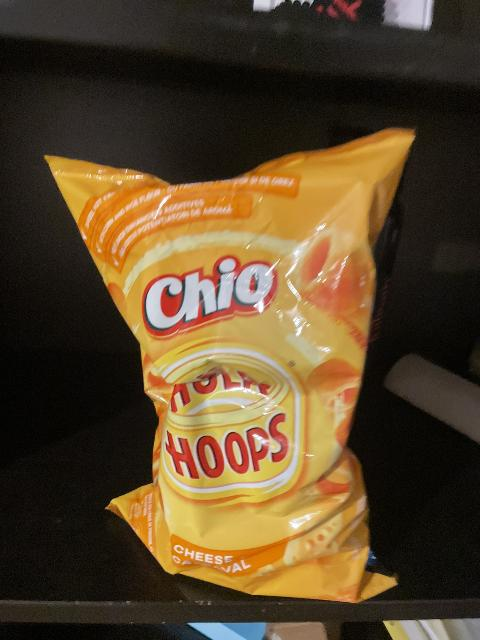Chio Hula Hoops Cheese 70g: (46, 129, 427, 602)
